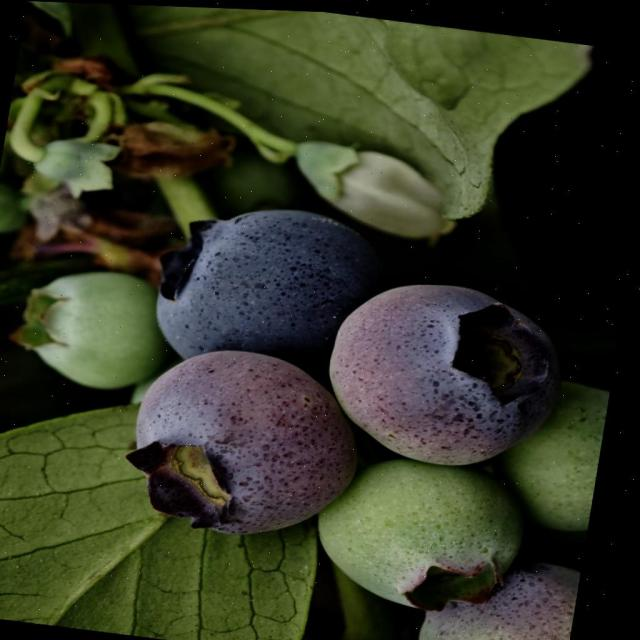RipeBlueBerry: (149, 191, 386, 379)
Semi-RipeBlueBerry: (323, 263, 578, 472), (126, 334, 376, 544)
UnripeBlueBerry: (12, 255, 171, 391)
